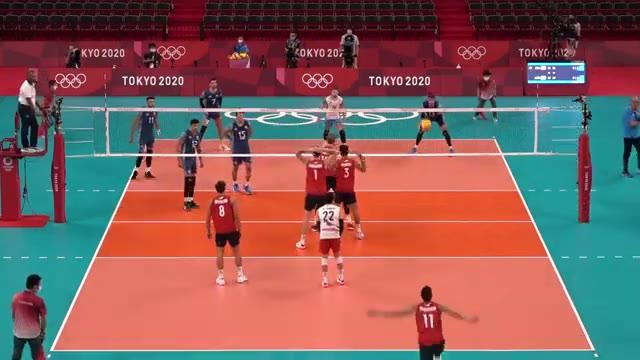ball: (419, 119, 433, 132)
